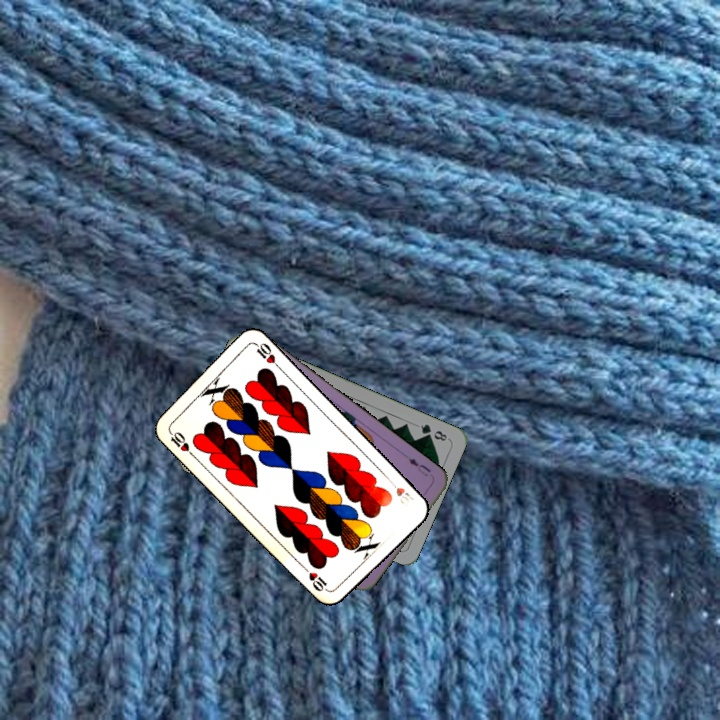EU: (404, 454, 433, 479)
G8: (416, 420, 451, 444)
H10: (385, 475, 417, 509), (165, 426, 196, 459)
